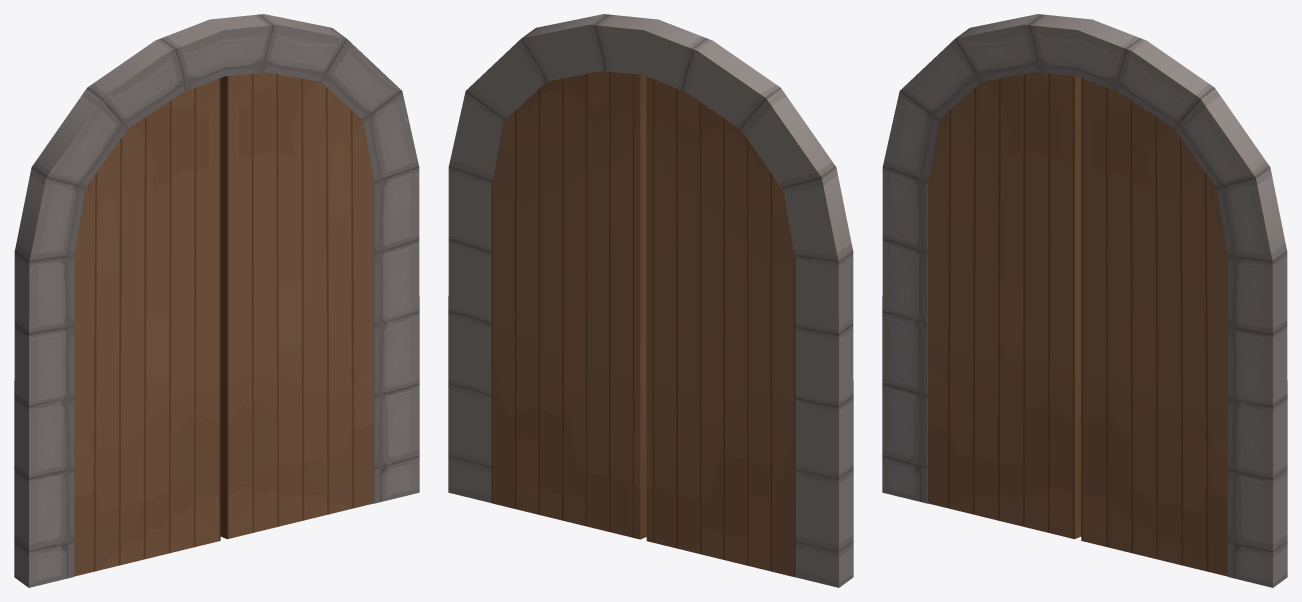
The model's file is bossDoor_MESH.fbx.
3 renders of one model, left to right at view 1: azimuth 30°, elevation 25°; view 2: azimuth 150°, elevation 25°; view 3: azimuth 330°, elevation 25°, orthographic.
Parts seen in each view (by area): view 1: leftDoor, arch, rightDoor; view 2: leftDoor, rightDoor, arch; view 3: rightDoor, arch, leftDoor.
Boxes of the visible parts, <box> form: leftDoor: <box>220,72,373,539</box>; arch: <box>14,14,419,587</box>; rightDoor: <box>74,78,220,576</box>; leftDoor: <box>491,71,646,539</box>; rightDoor: <box>646,76,795,577</box>; arch: <box>448,14,853,587</box>; rightDoor: <box>928,72,1081,539</box>; arch: <box>882,14,1287,587</box>; leftDoor: <box>1081,78,1227,576</box>.
Size of the model in its own units: 26.39 by 32.92 by 1.72.
